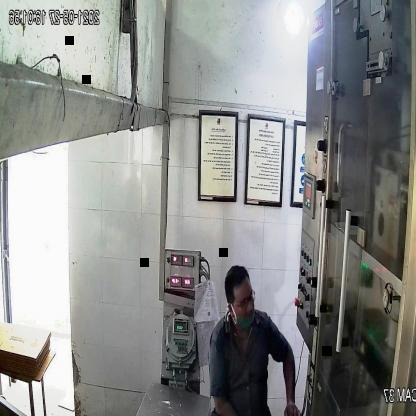goggles: (231, 285, 259, 312)
